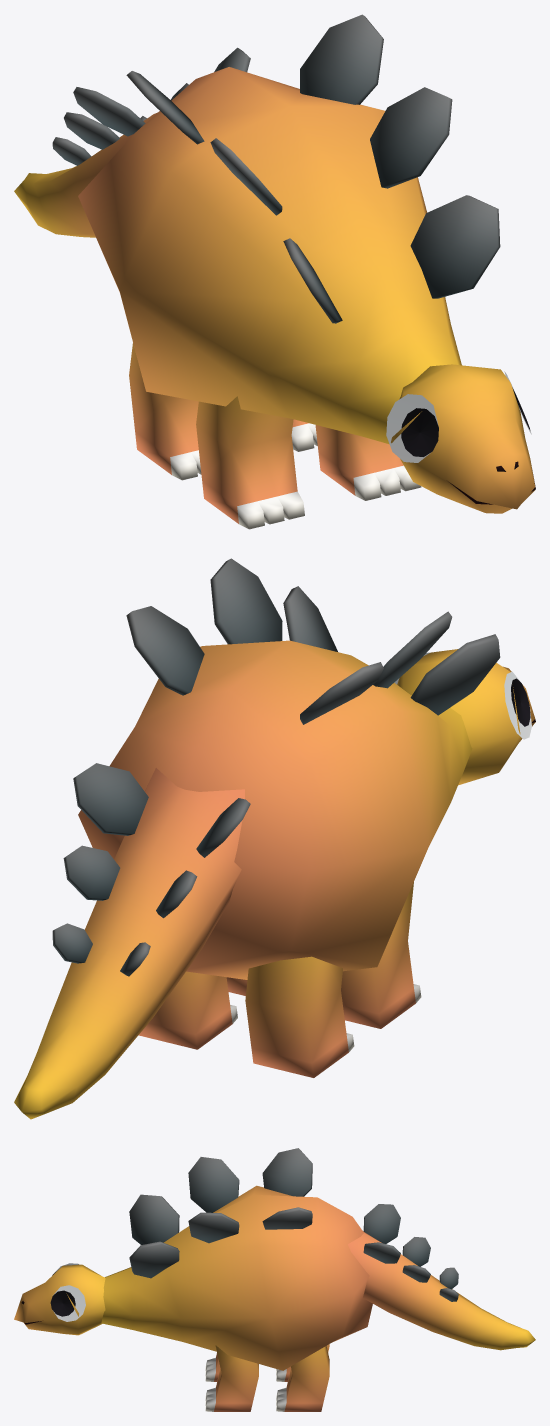
File: gob_stegosaurus.fbx
The picture shows the model from 3 angles, top to bottom: view 1: azimuth 30°, elevation 25°; view 2: azimuth 150°, elevation 25°; view 3: azimuth 270°, elevation 25°; orthographic projection. The views are drawn at different scales.
Parts seen in each view (by area): view 1: Stegosaurus; view 2: Stegosaurus; view 3: Stegosaurus.
Part boxes in pixels (<box>): Stegosaurus: <box>14,14,535,529</box>; Stegosaurus: <box>14,558,535,1119</box>; Stegosaurus: <box>14,1148,535,1411</box>.
Size of the model in its own units: 352 by 438 by 979.
1 material, 1 textured.
